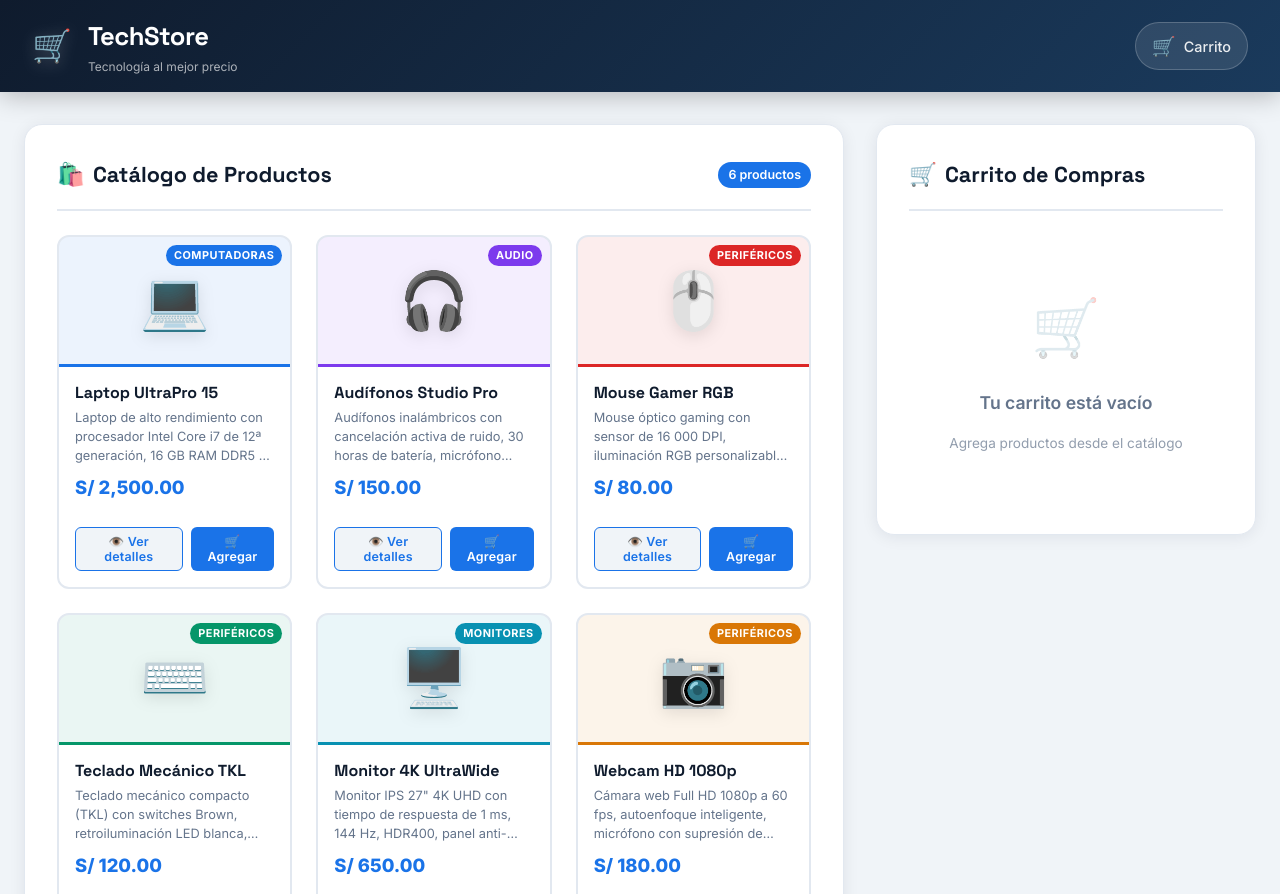
Test: Prueba 2 — Agregar una laptop actualiza el total › el total debe ser S/ 2500 al agregar una laptop
The image size is (1280, 894).
Click the button "🛒 Agregar" below "S/ 2,500.00" at {"x": 232, "y": 549}, box [191, 527, 274, 571]
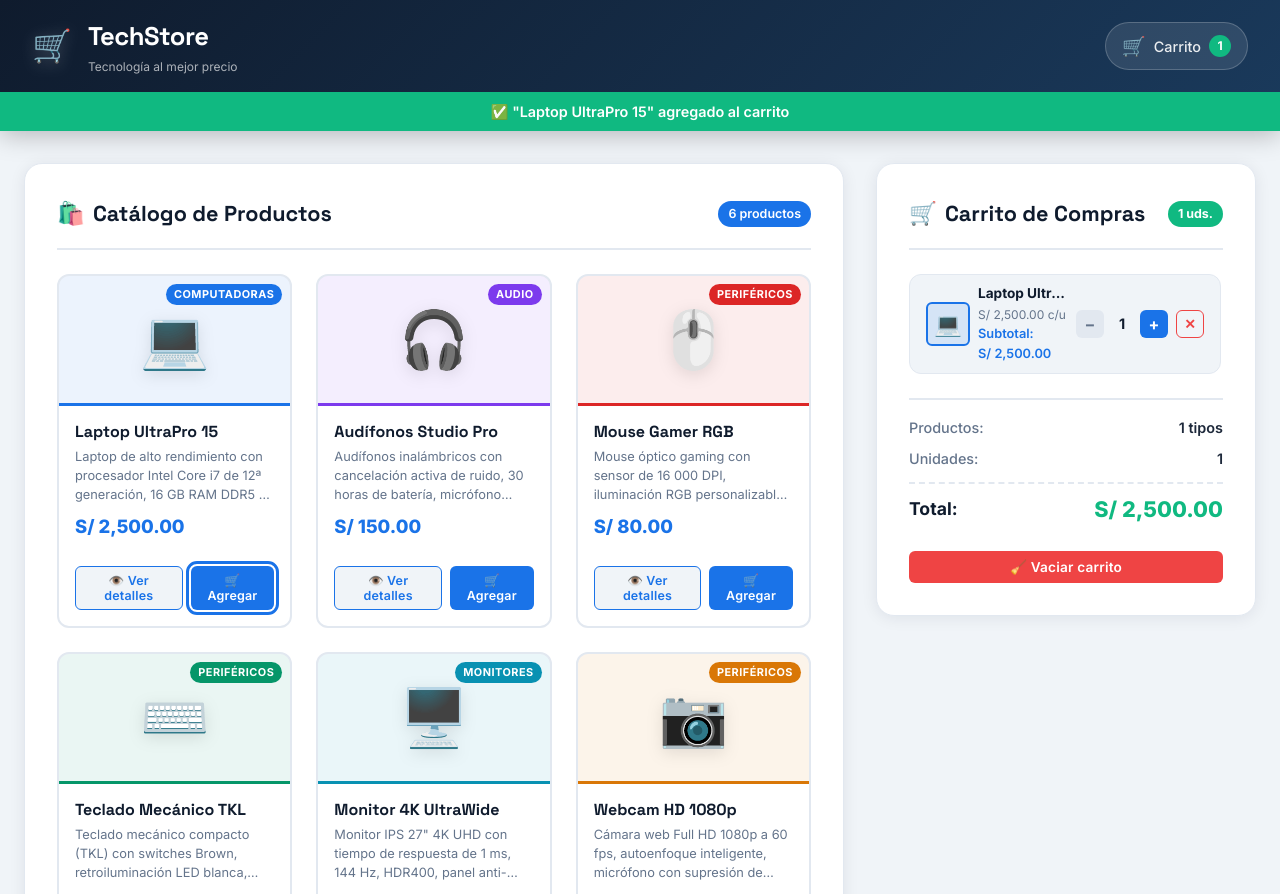
Check: the text with test id "total-amount" is shown, box [1094, 492, 1223, 526]
Check: the text with test id "total-amount" shows "2", box [1094, 496, 1223, 522]
